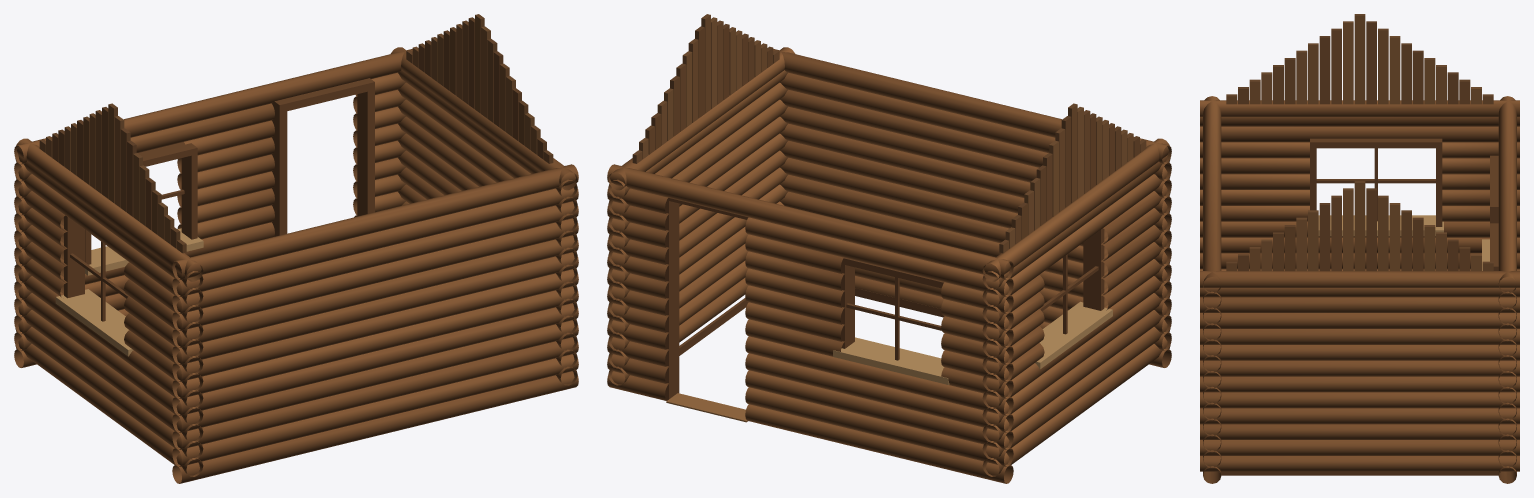
The model's file is Hut_Walls.fbx.
3 renders of one model, left to right at view 1: azimuth 30°, elevation 25°; view 2: azimuth 150°, elevation 25°; view 3: azimuth 270°, elevation 25°, orthographic. The views are drawn at different scales.
Parts seen in each view (by area): view 1: Hut_Walls; view 2: Hut_Walls; view 3: Hut_Walls.
Boxes of the visible parts, left/top/right/bottom form: Hut_Walls: left=14, top=14, right=578, bottom=483; Hut_Walls: left=607, top=14, right=1171, bottom=483; Hut_Walls: left=1200, top=14, right=1519, bottom=483.
Size of the model in its own units: 158 by 120 by 118.
